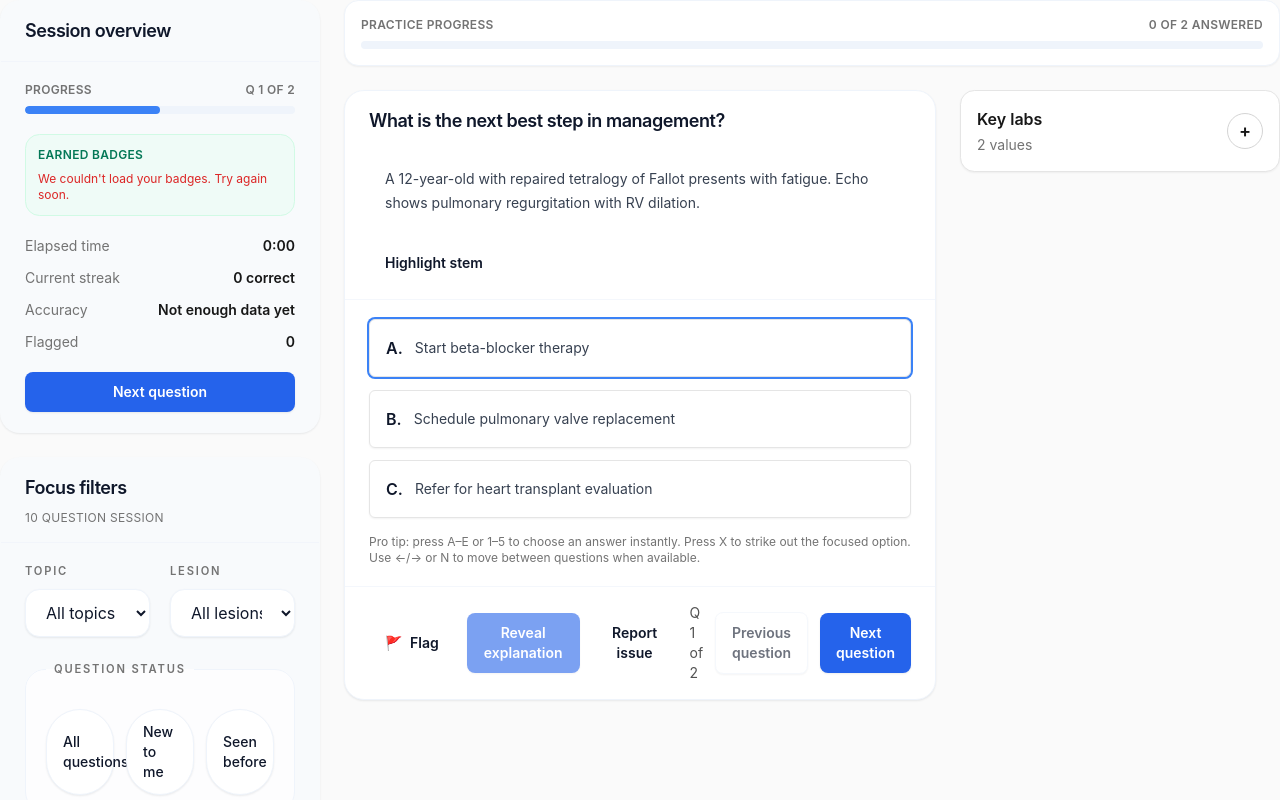
practice flow › lets a student report an issue with the current question
Expected: the heading "What is the next best step in management?" is shown, [369,110,725,131]
Click the button "B. Schedule pulmonary valve replacement" at (640,419), box [369,390,911,448]
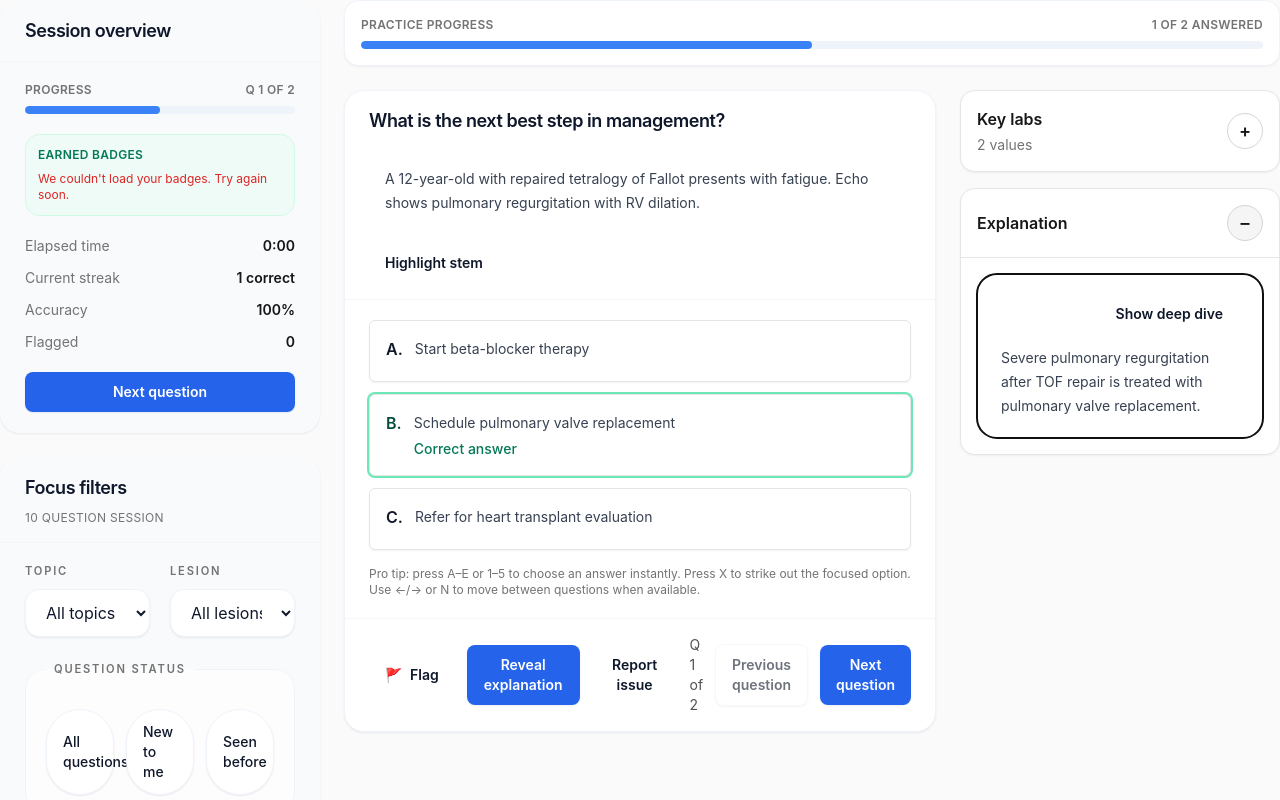
Click the button "Report issue" at (634,675), box [592,645,677,705]
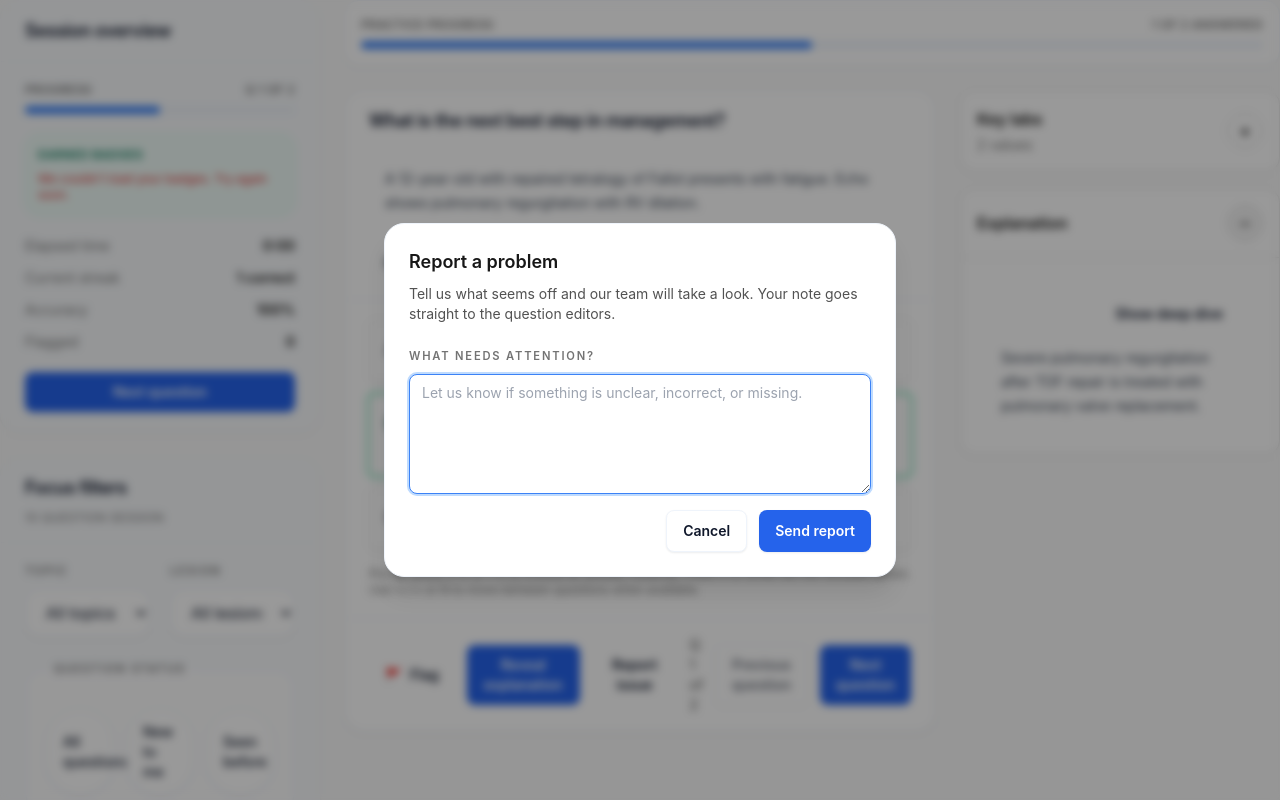
Type "Choice D is outdated per new guidelines." into the text box labelled "What needs attention?" at (640,434), box [409,374,871,494]
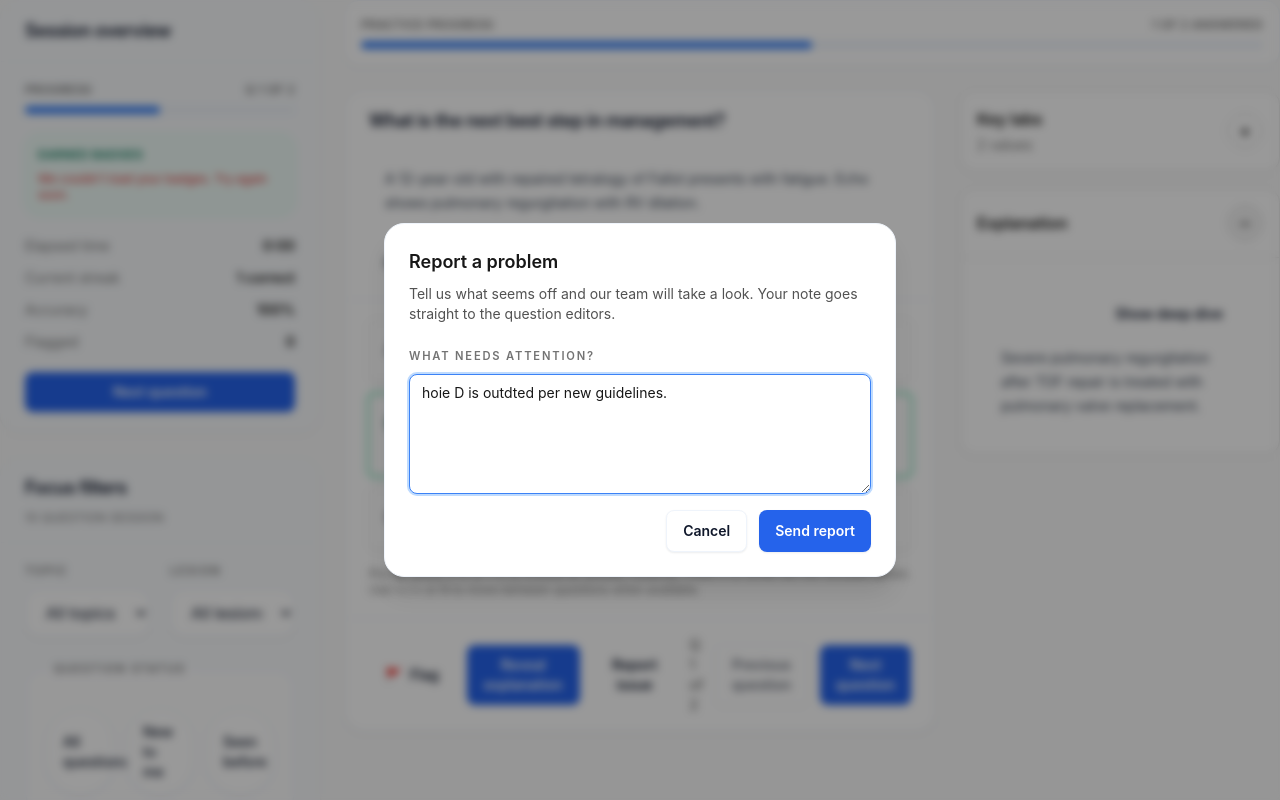
Click the button "Send report" at (815,531), box [759,510,871,552]
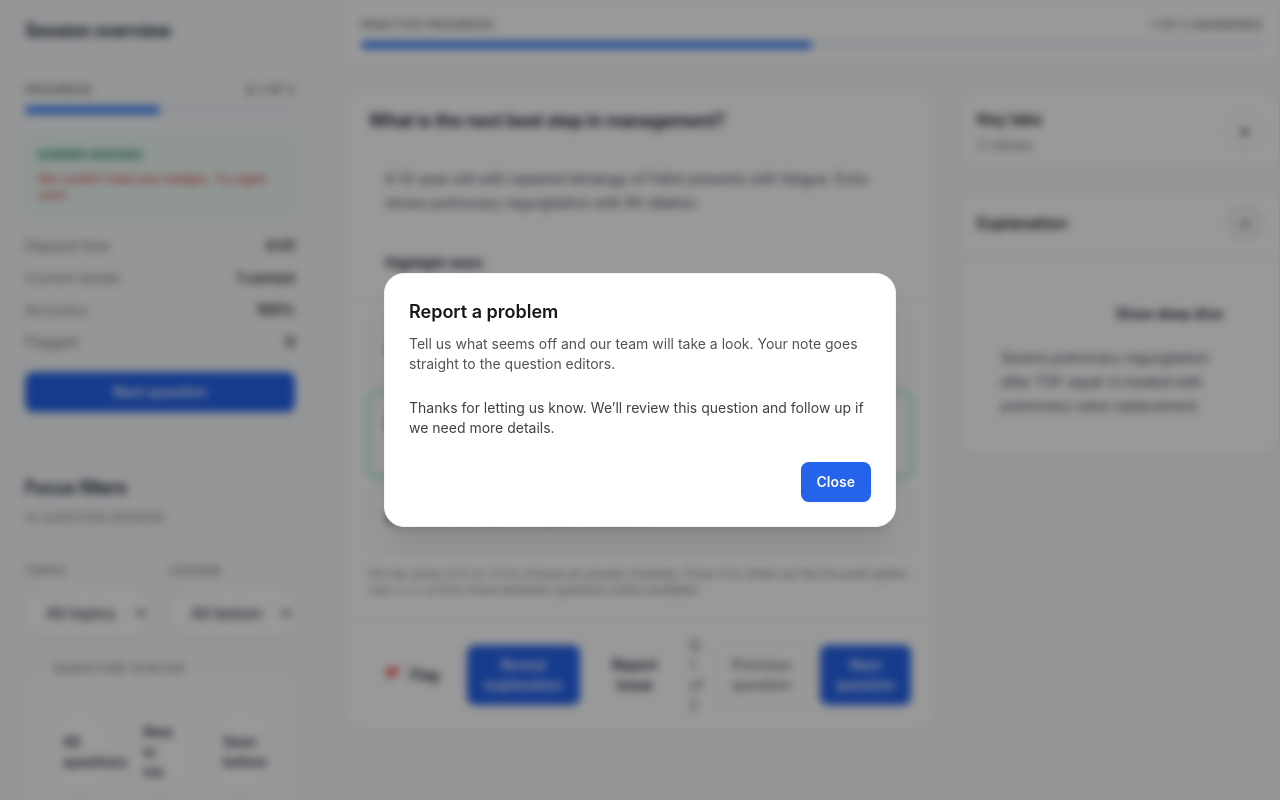
Expected: the text "Thanks for letting us know" is shown, [409,399,864,436]
